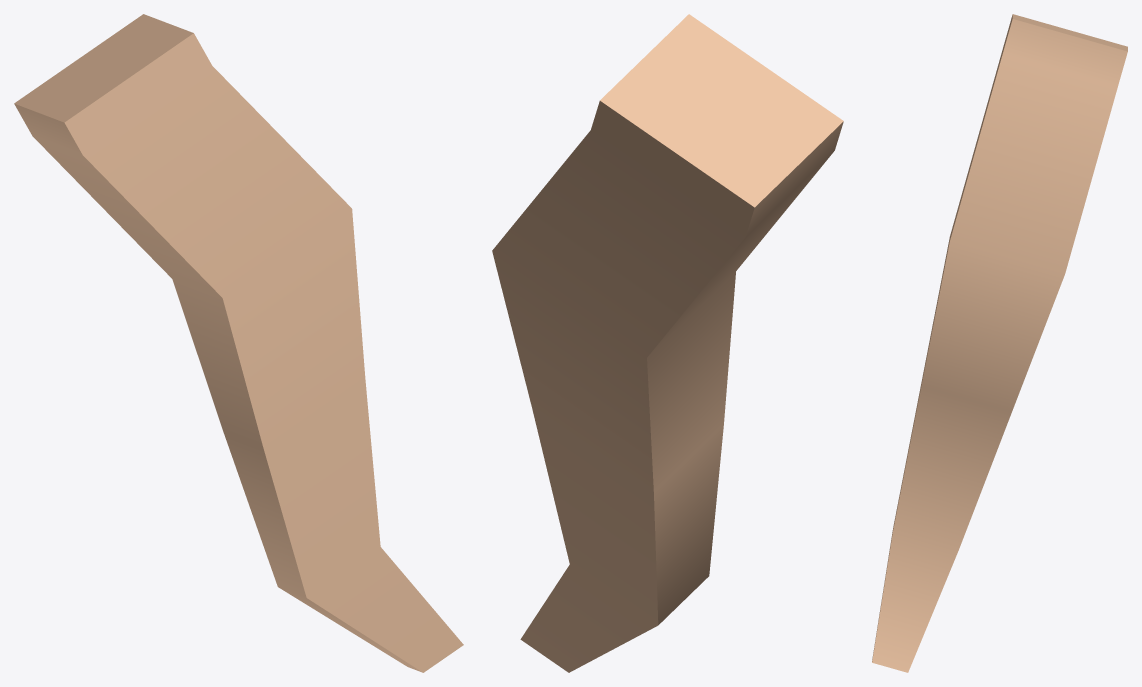
File: Anatomy_Appendix.obj
3 renders of one model, left to right at view 1: azimuth 30°, elevation 25°; view 2: azimuth 150°, elevation 25°; view 3: azimuth 270°, elevation 25°, orthographic. The views are drawn at different scales.
Visible parts, largest first — view 1: Appendix; view 2: Appendix; view 3: Appendix.
Part boxes in pixels (x1,y1,x2,y2): Appendix: (14,14,463,672); Appendix: (492,14,843,672); Appendix: (872,14,1127,672).
Size of the model in its own units: 1.17 by 2.16 by 0.8604.
